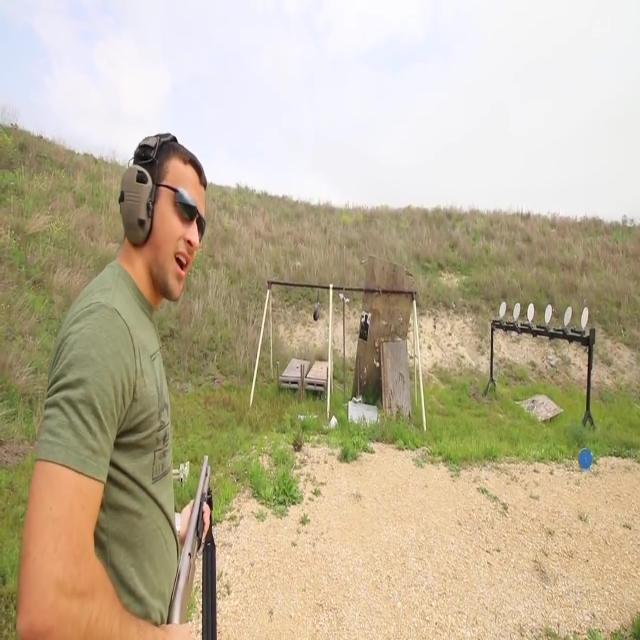Weapon: (139, 425, 228, 640)
